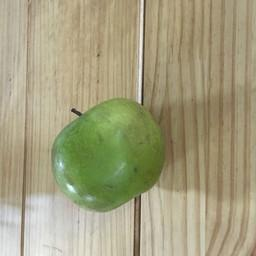Good_apple: (48, 93, 165, 216)
